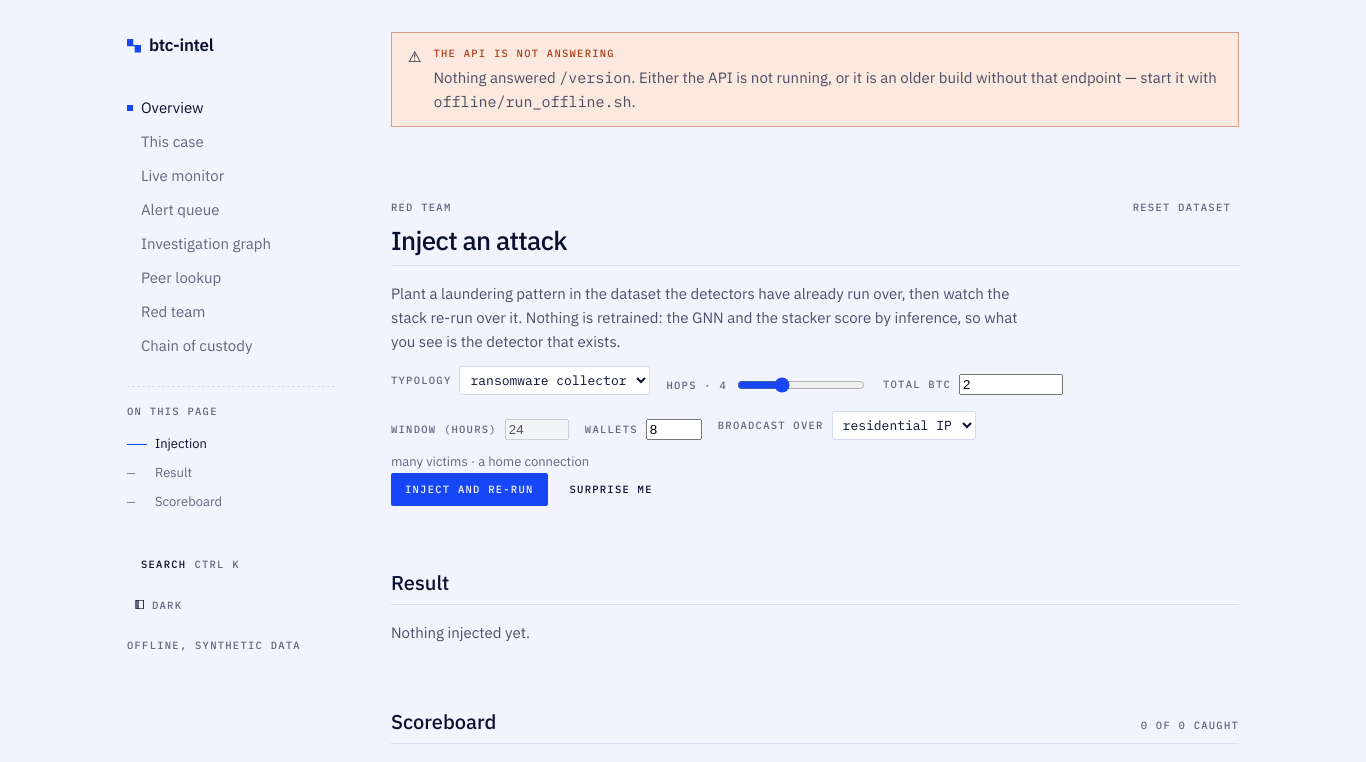
it: the red-team page › warns before the run that a non-crime typology expects no alert
The width and height of the screenshot is (1366, 762).
Step 1. Select "coinjoin" in the dropdown labelled "Typology" → (555, 381), box left=460, top=366, right=650, bottom=395
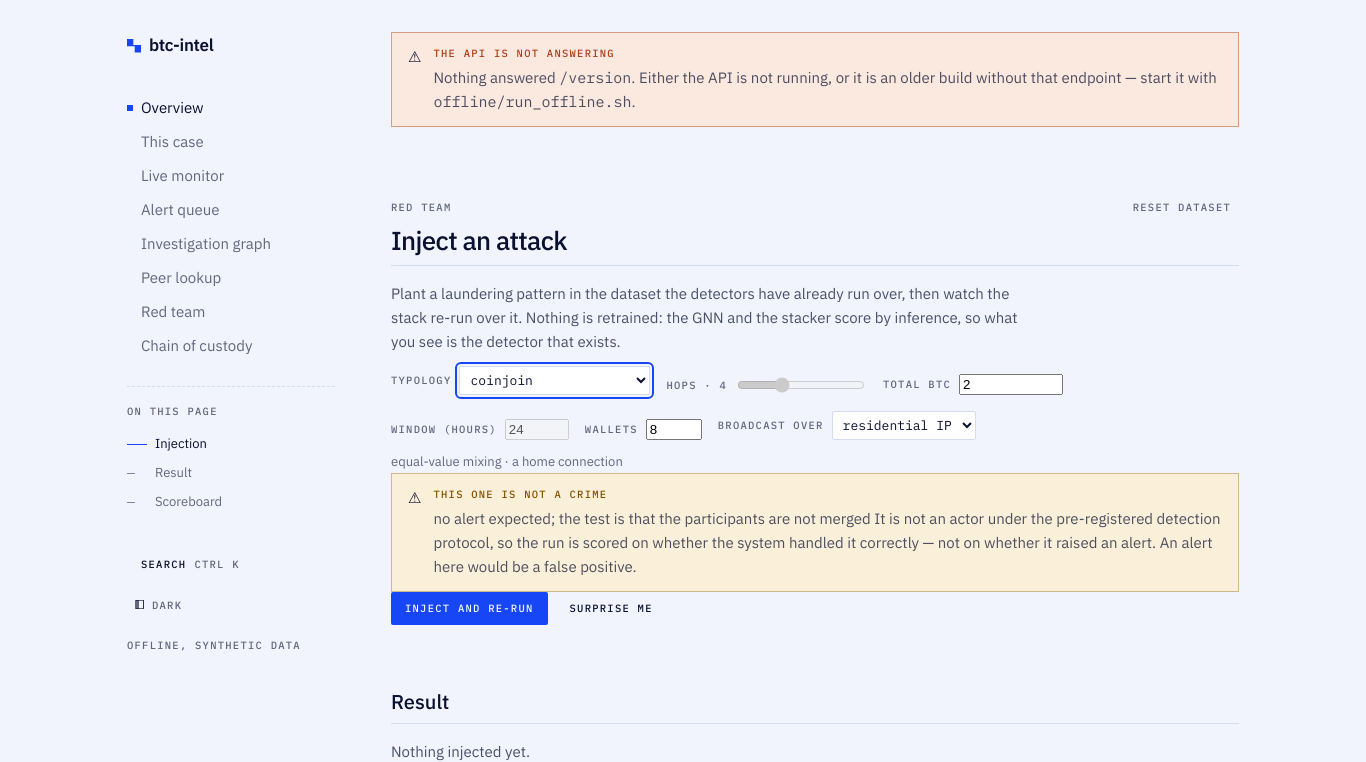
expect the text "This one is not a crime" is shown: met, box left=434, top=487, right=607, bottom=501
